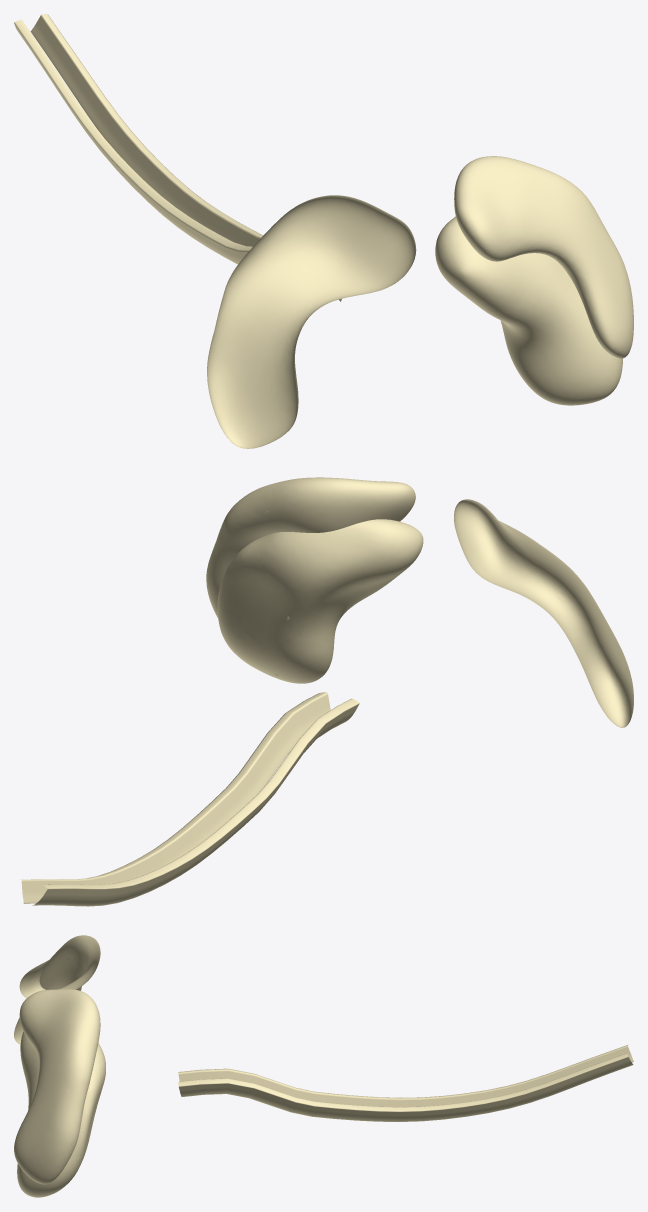
The model's file is neck__nervous.6c23cfe316.glb.
3 renders of one model, top to bottom at view 1: azimuth 30°, elevation 25°; view 2: azimuth 150°, elevation 25°; view 3: azimuth 270°, elevation 25°, orthographic. The views are drawn at different scales.
Visible parts, largest first — view 1: Gracile lobule.r, Gracile lobule.l, Biventral lobule.l, Cuneate fasciculus; view 2: Biventral lobule.l, Cuneate fasciculus, Gracile lobule.r, Gracile lobule.l; view 3: Gracile lobule.l, Cuneate fasciculus, Biventral lobule.l, Gracile lobule.r.
Part boxes in pixels (box(x1,y1,x2,y2)): Gracile lobule.r: box(207, 195, 416, 448); Gracile lobule.l: box(454, 156, 633, 358); Biventral lobule.l: box(435, 216, 622, 405); Cuneate fasciculus: box(14, 14, 341, 301); Biventral lobule.l: box(217, 519, 423, 683); Cuneate fasciculus: box(21, 692, 359, 906); Gracile lobule.r: box(454, 499, 633, 727); Gracile lobule.l: box(206, 477, 415, 618); Gracile lobule.l: box(14, 989, 100, 1184); Cuneate fasciculus: box(178, 1045, 633, 1121); Biventral lobule.l: box(17, 1031, 105, 1197); Gracile lobule.r: box(14, 935, 100, 1044).
Bounding box in the file's own units: 76.57 × 41.48 × 135.
